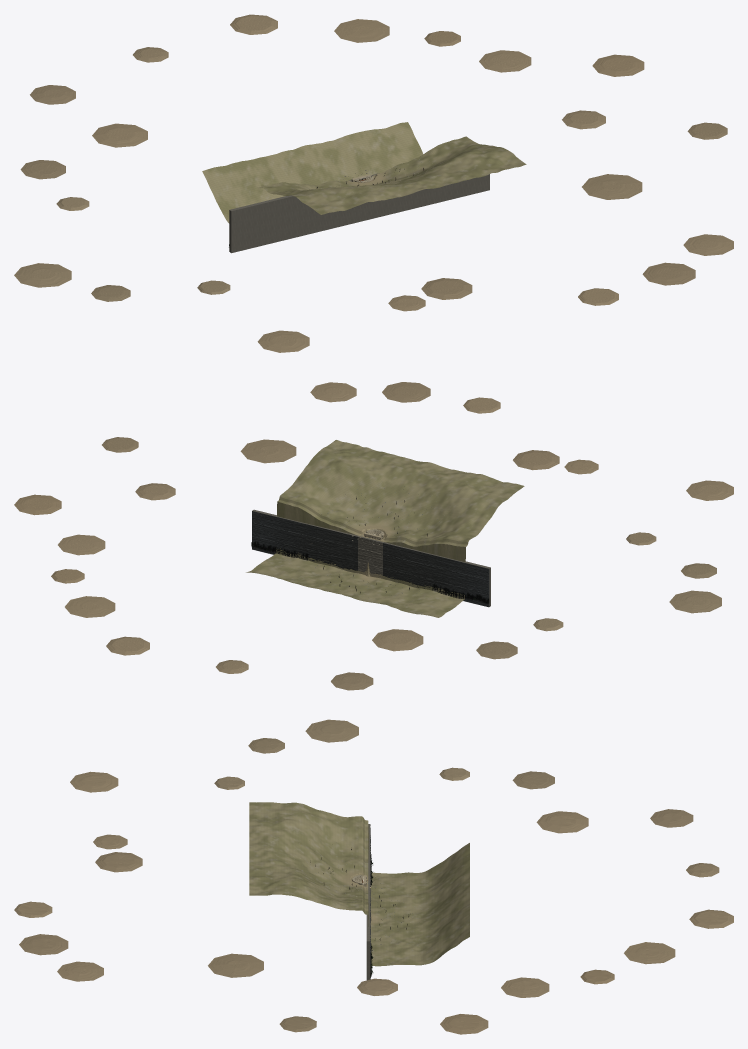
Rendered from termessos-tiyatrosu-baked.glb.
3 views of the same model, one above another, from view 1: azimuth 30°, elevation 25°; view 2: azimuth 150°, elevation 25°; view 3: azimuth 270°, elevation 25° (orthographic). The views are drawn at different scales.
Visible parts, largest first — view 1: termessos-tiyatrosu-ground, termessos-tiyatrosu-terrain; view 2: termessos-tiyatrosu-terrain, termessos-tiyatrosu-ground, termessos-tiyatrosu-detail, termessos-tiyatrosu-near, termessos-tiyatrosu-flora; view 3: termessos-tiyatrosu-terrain, termessos-tiyatrosu-ground.
Boxes of the visible parts, bbox=[...] form: termessos-tiyatrosu-ground: bbox=[14, 14, 733, 352]; termessos-tiyatrosu-terrain: bbox=[202, 122, 526, 223]; termessos-tiyatrosu-terrain: bbox=[246, 440, 524, 617]; termessos-tiyatrosu-ground: bbox=[14, 382, 733, 690]; termessos-tiyatrosu-detail: bbox=[252, 511, 489, 607]; termessos-tiyatrosu-near: bbox=[358, 529, 384, 576]; termessos-tiyatrosu-flora: bbox=[251, 486, 488, 604]; termessos-tiyatrosu-terrain: bbox=[249, 802, 469, 966]; termessos-tiyatrosu-ground: bbox=[14, 719, 733, 1034].
Size of the model in its own units: 2417 by 265 by 2335.
23 materials, 17 textured.
